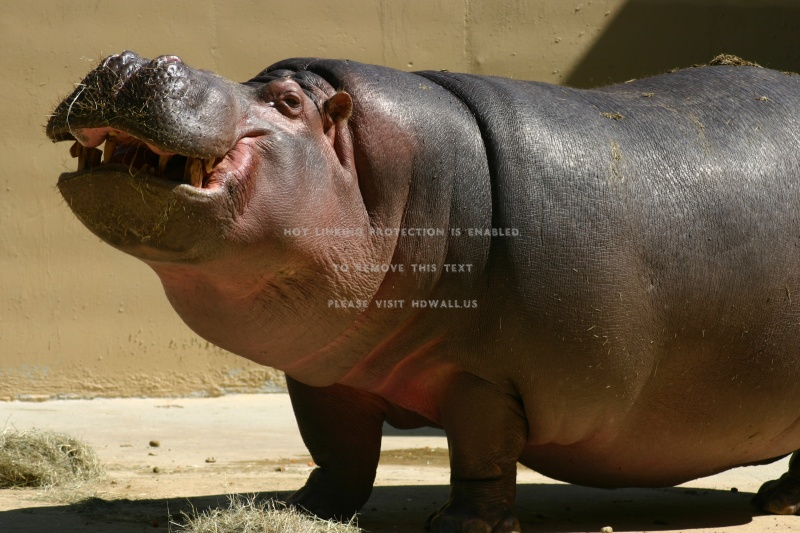hipopotamo: (39, 40, 800, 522)
